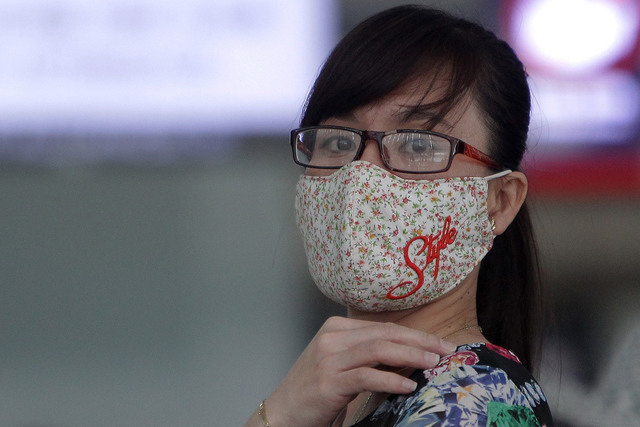mask: (294, 176, 502, 299)
